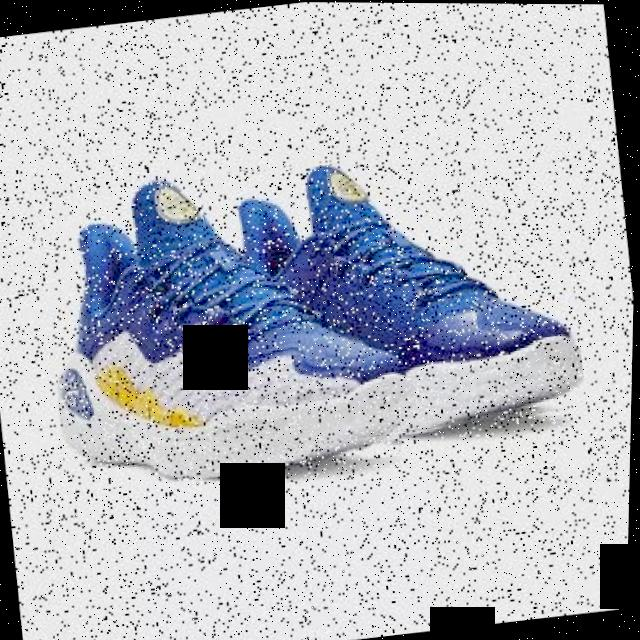shoe: (32, 147, 419, 495), (195, 135, 594, 457)
